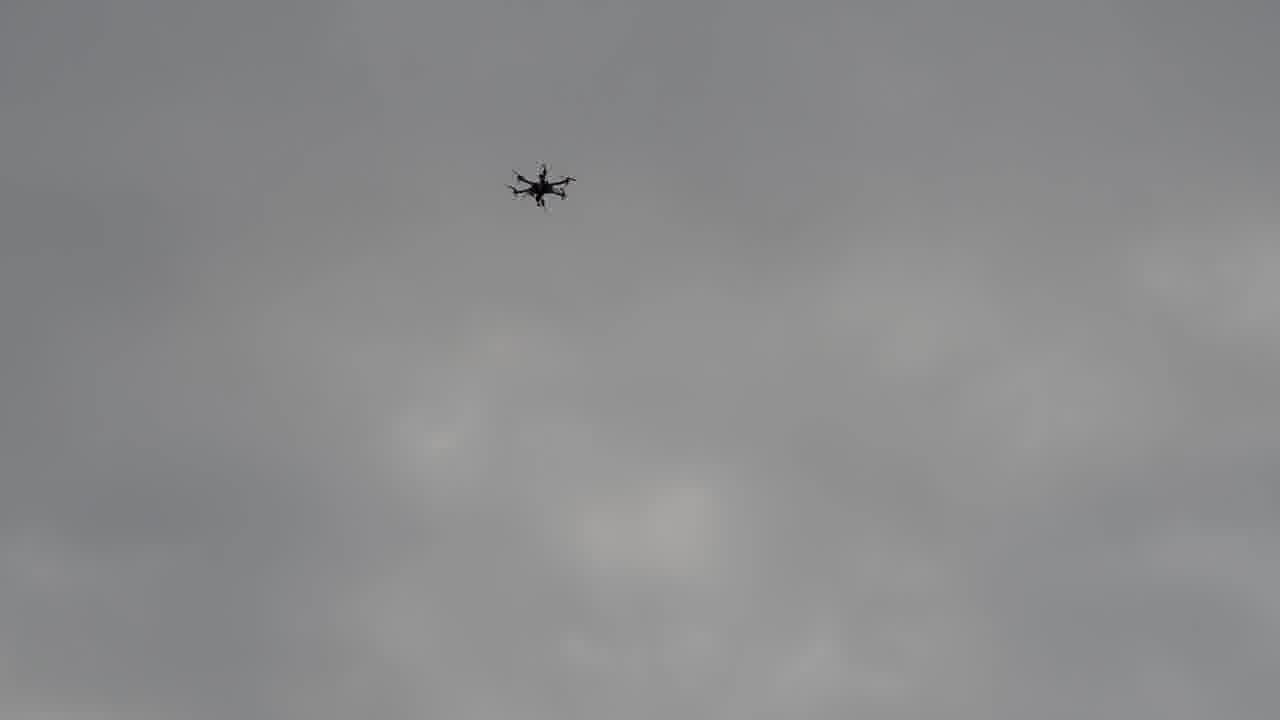drone: (499, 156, 575, 215)
